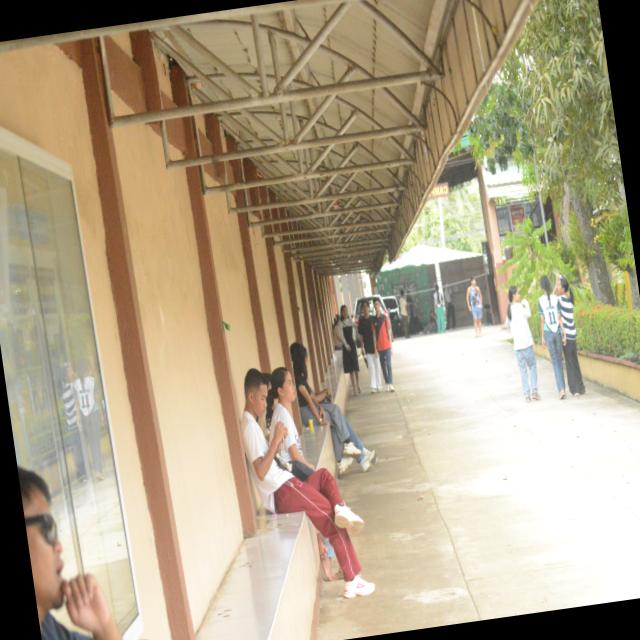person: (240, 369, 374, 598), (18, 468, 121, 639), (290, 342, 375, 475), (504, 286, 539, 402), (553, 275, 584, 396), (73, 359, 103, 480), (537, 275, 565, 399), (334, 305, 360, 395), (357, 300, 381, 393), (371, 300, 393, 392), (465, 277, 482, 338), (433, 284, 444, 334), (443, 284, 455, 329), (398, 289, 408, 338)
